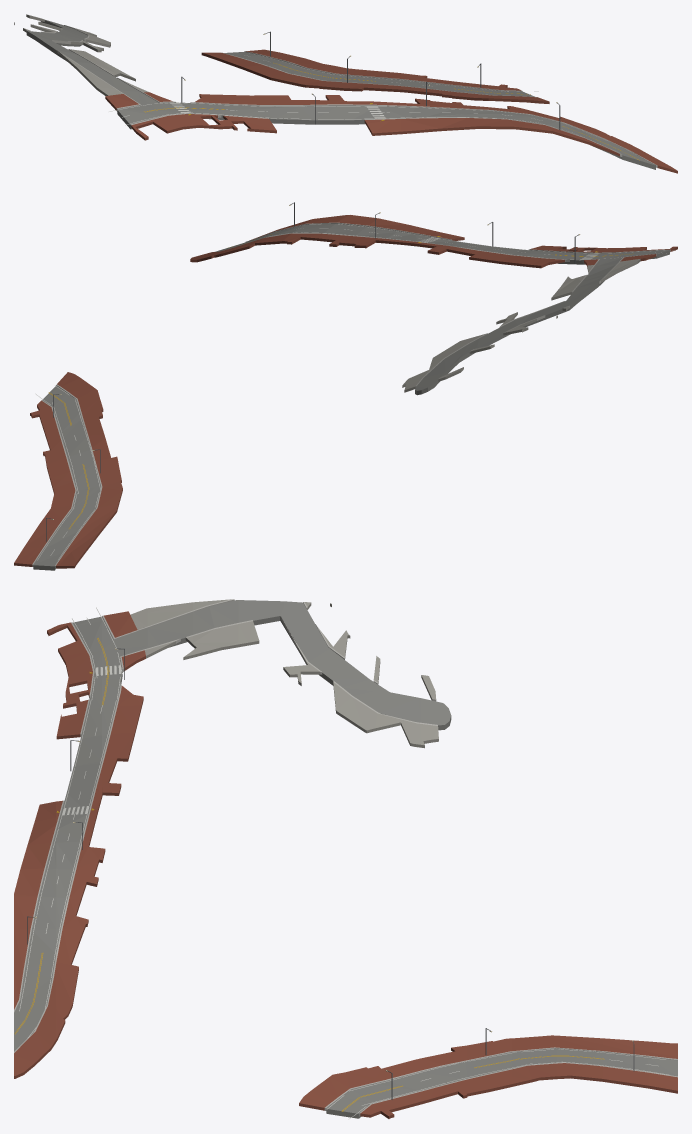
File: 18-218879-118952.ea2ede50.glb
3 renders of one model, top to bottom at view 1: azimuth 30°, elevation 25°; view 2: azimuth 150°, elevation 25°; view 3: azimuth 270°, elevation 25°, orthographic. The views are drawn at different scales.
Size of the model in its own units: 153 by 66.42 by 146.
